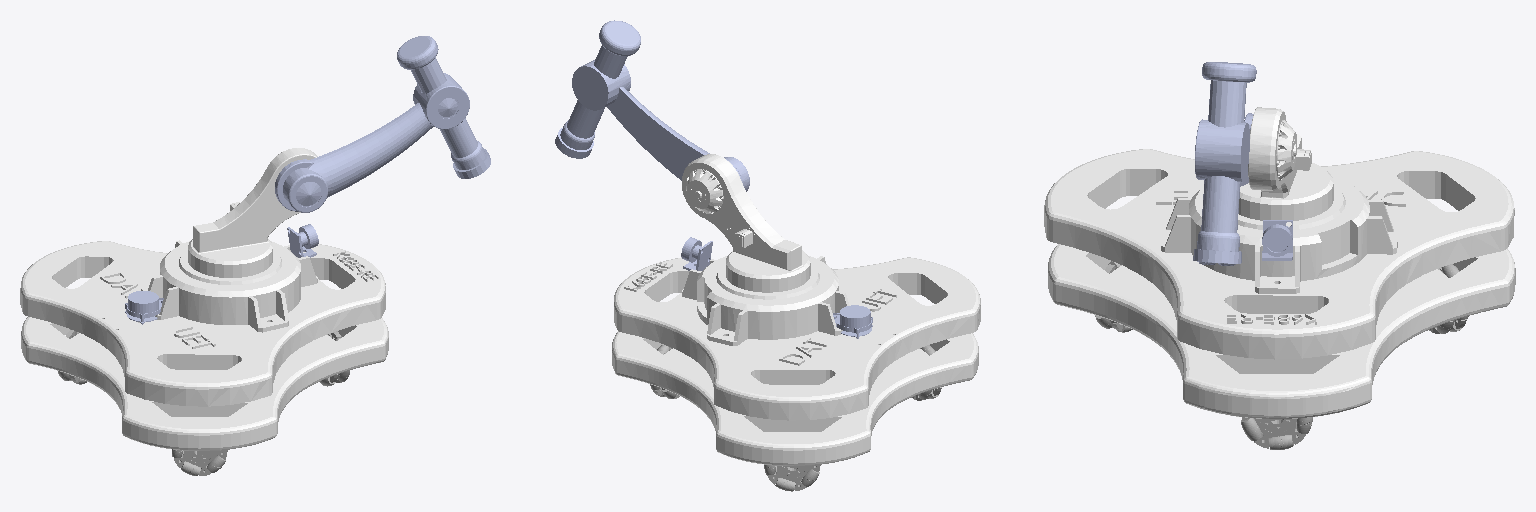
The robot description file, URDF, robot "robot24":
<?xml version="1.0" encoding="utf-8"?>
<!-- This URDF was automatically created by SolidWorks to URDF Exporter! Originally created by Stephen Brawner (brawner@gmail.com)
     Commit Version: 1.6.0-4-g7f85cfe  Build Version: 1.6.7995.38578
     For more information, please see http://wiki.ros.org/sw_urdf_exporter -->
<robot name="robot24">
  <link name="base_link">
    <inertial>
      <origin
        xyz="0.0109188013168646 1.76763965926696E-05 0.0997474383551037"
        rpy="0 0 0" />
      <mass value="57.45925547021295" />
      <inertia
        ixx="1.6184702474608141"
        ixy="-0.004449612350897379"
        ixz="-0.00825176958770917"
        iyy="1.636948768488534"
        iyz="0.0008457170396251473"
        izz="3.211471047506535" />
    </inertial>
    <visual>
      <origin
        xyz="0 0 0"
        rpy="0 0 0" />
      <geometry>
        <mesh filename="package://robot24/meshes/base_link.STL" />
      </geometry>
      <material name="">
        <color rgba="1 1 1 1" />
      </material>
    </visual>
    <collision>
      <origin
        xyz="0 0 0.11"
        rpy="0 0 0" />
      <geometry>
        <box size="0.52 0.52 0.16" />
      </geometry>
    </collision>
  </link>

  <link name="camera_Link">
    <inertial>
      <origin
        xyz="-0.017827234651844 1.33226762955019E-15 -0.00440557041497291"
        rpy="0 0 0" />
      <mass value="0.0692728766578711" />
      <inertia
        ixx="2.81153880199431E-05"
        ixy="-5.84452733605467E-20"
        ixz="-1.87438182530082E-06"
        iyy="3.00692164744913E-05"
        iyz="2.68802521422793E-07"
        izz="2.3756194344505E-05" />
    </inertial>
    <visual>
      <origin
        xyz="0 0 0"
        rpy="0 0 0" />
      <geometry>
        <mesh filename="package://robot24/meshes/camera_Link.STL" />
      </geometry>
      <material name="">
        <color rgba="0.792156862745098 0.819607843137255 0.933333333333333 1" />
      </material>
    </visual>
    <collision>
      <origin
        xyz="-0.018 0 -0.004"
        rpy="0 0 0" />
      <geometry>
        <box size="0.06 0.04 0.03" />
      </geometry>
    </collision>
  </link>
  <joint name="camera_joint" type="fixed">
    <origin
      xyz="0.260955540758793 -0.00383861543085651 0.255"
      rpy="0 -0.15 -0.018805964092791" />
    <parent link="base_link" />
    <child link="camera_Link" />
    <axis xyz="0 0 0" />
  </joint>

  <link name="lidar_Link">
    <inertial>
      <origin
        xyz="0.00827758602336659 0.000523122651542973 -0.0212988577769737"
        rpy="0 0 0" />
      <mass value="0.146695752132363" />
      <inertia
        ixx="6.24606784228344E-05"
        ixy="-2.98376321795715E-06"
        ixz="1.8828245822926E-05"
        iyy="0.000109485431248483"
        iyz="1.1898978581703E-06"
        izz="0.000125682524276301" />
    </inertial>
    <visual>
      <origin
        xyz="0 0 0"
        rpy="0 0 0" />
      <geometry>
        <mesh filename="package://robot24/meshes/lidar_Link.STL" />
      </geometry>
      <material name="">
        <color rgba="0.792156862745098 0.819607843137255 0.933333333333333 1" />
      </material>
    </visual>
    <collision>
      <origin
        xyz="0.008 0 -0.021"
        rpy="0 0 0" />
      <geometry>
        <cylinder radius="0.04" length="0.05" />
      </geometry>
    </collision>
  </link>
  <joint name="lidar_joint" type="fixed">
    <origin
      xyz="-0.145 0.0 0.205"
      rpy="0 0 -0.0188059640927907" />
    <parent link="base_link" />
    <child link="lidar_Link" />
    <axis xyz="0 0 0" />
  </joint>

  <link name="trucquay_Link">
    <inertial>
      <origin
        xyz="0.154006318228365 0.0609154485223448 0.0237433251601207"
        rpy="0 0 0" />
      <mass value="1.49567039541735" />
      <inertia
        ixx="0.00637042685024106"
        ixy="-0.0107611576048801"
        ixz="-0.00206939885340112"
        iyy="0.0254038294841489"
        iyz="-0.000888380581578756"
        izz="0.0304938993256522" />
    </inertial>
    <visual>
      <origin
        xyz="0 0 0"
        rpy="0 0 0" />
      <geometry>
        <mesh filename="package://robot24/meshes/trucquay_Link.STL" />
      </geometry>
      <material name="">
        <color rgba="0.792156862745098 0.819607843137255 0.933333333333333 1" />
      </material>
    </visual>
    <collision>
      <origin
        xyz="0.15 0.06 0.03"
        rpy="0 0 0" />
      <geometry>
        <box size="0.30 0.10 0.08" />
      </geometry>
    </collision>
  </link>
  <joint name="trucquay_joint" type="revolute">
    <origin
      xyz="0.210548945807767 -0.0545792259731237 0.401999999999507"
      rpy="1.5707963267949 0 -0.0188059640927143" />
    <parent link="base_link" />
    <child link="trucquay_Link" />
    <axis xyz="-0.136495638766766 0 0.990640671786523" />
    <dynamics damping="80" friction="30" />
    <limit
      lower="-1"
      upper="1.57"
      effort="80"
      velocity="1.5" />
  </joint>

  <link name="khautruot_Link">
    <inertial>
      <origin
        xyz="0.00320522880232044 -0.00154175551809077 0.0177906997910464"
        rpy="0 0 0" />
      <mass value="1.10519703403352" />
      <inertia
        ixx="0.0106719039106667"
        ixy="-0.000267900879984724"
        ixz="-0.00440491133942458"
        iyy="0.0125765300360893"
        iyz="-0.000607806609524928"
        izz="0.00261998935052628" />
    </inertial>
    <visual>
      <origin
        xyz="0 0 0"
        rpy="0 0 0" />
      <geometry>
        <mesh filename="package://robot24/meshes/khautruot_Link.STL" />
      </geometry>
      <material name="">
        <color rgba="0.792156862745098 0.819607843137255 0.933333333333333 1" />
      </material>
    </visual>
    <collision>
      <origin
        xyz="0 0 0.018"
        rpy="0 0 0" />
      <geometry>
        <box size="0.20 0.08 0.05" />
      </geometry>
    </collision>
  </link>
  <joint name="khautruot_joint" type="prismatic">
    <origin
      xyz="0.32199969337712 0.144975876587543 0.0332324662082888"
      rpy="1.5707963267949 0 0" />
    <parent link="trucquay_Link" />
    <child link="khautruot_Link" />
    <axis xyz="0.402812515773301 0.0555016094226927 0.913598187655752" />
    <dynamics damping="120" friction="40" />
    <limit
      lower="-0.08"
      upper="0.06"
      effort="80"
      velocity="0.5" />
  </joint>

  <link name="dongco1_Link">
    <inertial>
      <origin
        xyz="-0.04597837974112 -1.4817068523687E-05 8.77825855310488E-05"
        rpy="0 0 0" />
      <mass value="2.06131407060818" />
      <inertia
        ixx="0.00153201458014351"
        ixy="8.81104611260512E-07"
        ixz="-5.22219842929224E-06"
        iyy="0.00151591785157508"
        iyz="-2.60447577024441E-07"
        izz="0.00151741766699433" />
    </inertial>
    <visual>
      <origin
        xyz="0 0 0"
        rpy="0 0 0" />
      <geometry>
        <mesh filename="package://robot24/meshes/dongco1_Link.STL" />
      </geometry>
      <material name="">
        <color rgba="0.752941176470588 0.752941176470588 0.752941176470588 1" />
      </material>
    </visual>
    <collision>
      <origin
        xyz="-0.046 0 0"
        rpy="0 1.5707963267949 0" />
      <geometry>
        <cylinder radius="0.06" length="0.05" />
      </geometry>
    </collision>
  </link>
  <joint name="dongco1_joint" type="continuous">
    <origin
      xyz="0.304722076064442 -0.00465845681972565 -0.0380197213423909"
      rpy="0 0 -0.0188059640936678" />
    <parent link="base_link" />
    <child link="dongco1_Link" />
    <axis xyz="-1 0 0" />
    <dynamics damping="8" friction="4" />
  </joint>

  <link name="dongco2_Link">
    <inertial>
      <origin
        xyz="0.02306587245417 0.0397741515024643 -9.14519100941869E-06"
        rpy="0 0 0" />
      <mass value="2.0613144302095" />
      <inertia
        ixx="0.00152564941212698"
        ixy="8.94266900040345E-06"
        ixz="-4.12275918493878E-07"
        iyy="0.00152380990914088"
        iyz="-3.89924771916433E-07"
        izz="0.00151589083878747" />
    </inertial>
    <visual>
      <origin
        xyz="0 0 0"
        rpy="0 0 0" />
      <geometry>
        <mesh filename="package://robot24/meshes/dongco2_Link.STL" />
      </geometry>
      <material name="">
        <color rgba="0.752941176470588 0.752941176470588 0.752941176470588 1" />
      </material>
    </visual>
    <collision>
      <origin
        xyz="0.023 0.04 0"
        rpy="0 1.5707963267949 0" />
      <geometry>
        <cylinder radius="0.06" length="0.05" />
      </geometry>
    </collision>
  </link>
  <joint name="dongco2_joint" type="continuous">
    <origin
      xyz="-0.157098086858932 -0.259817139743274 -0.0379979462003954"
      rpy="0 0 -0.0188059640936678" />
    <parent link="base_link" />
    <child link="dongco2_Link" />
    <axis xyz="0.499999999999996 0.866025403784441 0" />
    <dynamics damping="8" friction="4" />
  </joint>

  <link name="dongco3_Link">
    <inertial>
      <origin
        xyz="0.0229652086695784 -0.0398322847938535 8.46003914638516E-05"
        rpy="0 0 0" />
      <mass value="2.06131462080962" />
      <inertia
        ixx="0.00151859812616887"
        ixy="-6.09932996518698E-06"
        ixz="2.11022123966622E-06"
        iyy="0.00152944411002124"
        iyz="-4.59368588987408E-06"
        izz="0.00151730808376315" />
    </inertial>
    <visual>
      <origin
        xyz="0 0 0"
        rpy="0 0 0" />
      <geometry>
        <mesh filename="package://robot24/meshes/dongco3_Link.STL" />
      </geometry>
      <material name="">
        <color rgba="0.752941176470588 0.752941176470588 0.752941176470588 1" />
      </material>
    </visual>
    <collision>
      <origin
        xyz="0.023 -0.04 0"
        rpy="0 1.5707963267949 0" />
      <geometry>
        <cylinder radius="0.06" length="0.05" />
      </geometry>
    </collision>
  </link>
  <joint name="dongco3_joint" type="continuous">
    <origin
      xyz="-0.147153986230263 0.267691595391919 -0.0380190078121073"
      rpy="0 0 -0.0188059640936678" />
    <parent link="base_link" />
    <child link="dongco3_Link" />
    <axis xyz="0.5 -0.866025403784439 0" />
    <dynamics damping="8" friction="4" />
  </joint>

  <gazebo>
    <plugin
      name="robot24_arm_controller"
      filename="libgazebo_ros_joint_pose_trajectory.so">
      <ros>
        <namespace>/robot24_arm</namespace>
        <remapping>set_joint_trajectory:=arm_joint_trajectory</remapping>
      </ros>
      <update_rate>20</update_rate>
    </plugin>
    <plugin
      name="robot24_wheel_visual_controller"
      filename="libgazebo_ros_joint_pose_trajectory.so">
      <ros>
        <namespace>/robot24_base</namespace>
        <remapping>set_joint_trajectory:=wheel_joint_trajectory</remapping>
      </ros>
      <update_rate>60</update_rate>
    </plugin>
    <plugin
      name="robot24_planar_move"
      filename="libgazebo_ros_planar_move.so">
      <ros>
        <remapping>cmd_vel:=cmd_vel</remapping>
        <remapping>odom:=odom</remapping>
      </ros>
      <update_rate>100</update_rate>
      <publish_rate>30</publish_rate>
      <publish_odom>true</publish_odom>
      <publish_odom_tf>true</publish_odom_tf>
      <odometry_frame>odom</odometry_frame>
      <robot_base_frame>base_link</robot_base_frame>
      <covariance_x>0.0001</covariance_x>
      <covariance_y>0.0001</covariance_y>
      <covariance_yaw>0.01</covariance_yaw>
    </plugin>
  </gazebo>

  <gazebo reference="trucquay_Link">
    <gravity>false</gravity>
  </gazebo>

  <gazebo reference="khautruot_Link">
    <gravity>false</gravity>
  </gazebo>

  <gazebo reference="dongco1_Link">
    <gravity>false</gravity>
    <mu1>0.05</mu1>
    <mu2>0.05</mu2>
    <slip1>1.0</slip1>
    <slip2>1.0</slip2>
    <kp>100000.0</kp>
    <kd>10.0</kd>
    <minDepth>0.001</minDepth>
    <maxVel>0.02</maxVel>
  </gazebo>

  <gazebo reference="dongco2_Link">
    <gravity>false</gravity>
    <mu1>0.05</mu1>
    <mu2>0.05</mu2>
    <slip1>1.0</slip1>
    <slip2>1.0</slip2>
    <kp>100000.0</kp>
    <kd>10.0</kd>
    <minDepth>0.001</minDepth>
    <maxVel>0.02</maxVel>
  </gazebo>

  <gazebo reference="dongco3_Link">
    <gravity>false</gravity>
    <mu1>0.05</mu1>
    <mu2>0.05</mu2>
    <slip1>1.0</slip1>
    <slip2>1.0</slip2>
    <kp>100000.0</kp>
    <kd>10.0</kd>
    <minDepth>0.001</minDepth>
    <maxVel>0.02</maxVel>
  </gazebo>

  <gazebo reference="camera_Link">
    <sensor type="camera" name="robot24_camera">
      <always_on>true</always_on>
      <update_rate>10</update_rate>
      <visualize>true</visualize>
      <camera>
        <horizontal_fov>1.3962634</horizontal_fov>
        <image>
          <width>320</width>
          <height>240</height>
          <format>R8G8B8</format>
        </image>
        <clip>
          <near>0.05</near>
          <far>20.0</far>
        </clip>
      </camera>
      <plugin name="robot24_camera_controller" filename="libgazebo_ros_camera.so">
        <alwaysOn>true</alwaysOn>
        <updateRate>10.0</updateRate>
        <cameraName>camera</cameraName>
        <imageTopicName>image_raw</imageTopicName>
        <cameraInfoTopicName>camera_info</cameraInfoTopicName>
        <frameName>camera_Link</frameName>
      </plugin>
    </sensor>
  </gazebo>

  <gazebo reference="lidar_Link">
    <sensor type="ray" name="robot24_lidar">
      <always_on>true</always_on>
      <update_rate>8</update_rate>
      <visualize>true</visualize>
      <ray>
        <scan>
          <horizontal>
            <samples>360</samples>
            <resolution>1</resolution>
            <min_angle>-1.5707963</min_angle>
            <max_angle>1.5707963</max_angle>
          </horizontal>
        </scan>
        <range>
          <min>0.12</min>
          <max>12.0</max>
          <resolution>0.01</resolution>
        </range>
      </ray>
      <plugin name="robot24_laser_controller" filename="libgazebo_ros_ray_sensor.so">
        <ros>
          <remapping>~/out:=scan</remapping>
        </ros>
        <output_type>sensor_msgs/LaserScan</output_type>
        <frame_name>lidar_Link</frame_name>
      </plugin>
    </sensor>
  </gazebo>
</robot>

--- Facts derived from the render (not from the file) ---
The picture shows the robot from 3 angles, left to right: view 1: azimuth 30°, elevation 25°; view 2: azimuth 150°, elevation 25°; view 3: azimuth 270°, elevation 25°; orthographic projection.
Robot: robot24 — 8 links, 7 joints (1 revolute, 3 continuous, 1 prismatic, 2 fixed); root link base_link; default pose: all joints at 0.
Links seen in each view (by area): view 1: base_link, trucquay_Link, khautruot_Link, dongco2_Link, lidar_Link, camera_Link; view 2: base_link, trucquay_Link, khautruot_Link, dongco3_Link, lidar_Link, camera_Link; view 3: base_link, khautruot_Link, trucquay_Link, dongco1_Link, camera_Link.
Boxes of the visible links, x1,y1,x2,y2 form: base_link: (20, 148, 388, 450); trucquay_Link: (275, 73, 469, 212); khautruot_Link: (397, 36, 490, 178); dongco2_Link: (172, 449, 227, 475); lidar_Link: (125, 291, 163, 324); camera_Link: (287, 224, 318, 257); base_link: (612, 154, 980, 465); trucquay_Link: (572, 60, 749, 191); khautruot_Link: (555, 20, 640, 158); dongco3_Link: (764, 465, 820, 491); lidar_Link: (833, 305, 872, 338); camera_Link: (681, 237, 712, 270); base_link: (1044, 107, 1515, 418); khautruot_Link: (1193, 62, 1256, 265); trucquay_Link: (1195, 113, 1253, 186); dongco1_Link: (1241, 417, 1312, 449); camera_Link: (1262, 220, 1292, 260).
Bounding box of the posed robot: 0.953 × 0.7783 × 0.7908 m (x, y, z).
Meshes: 8 distinct files referenced, 8 mesh visuals loaded (8 binary STL).
